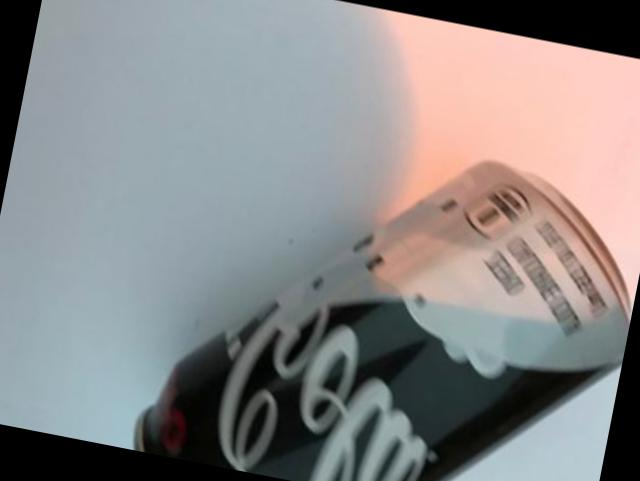metal: (137, 159, 631, 481)
